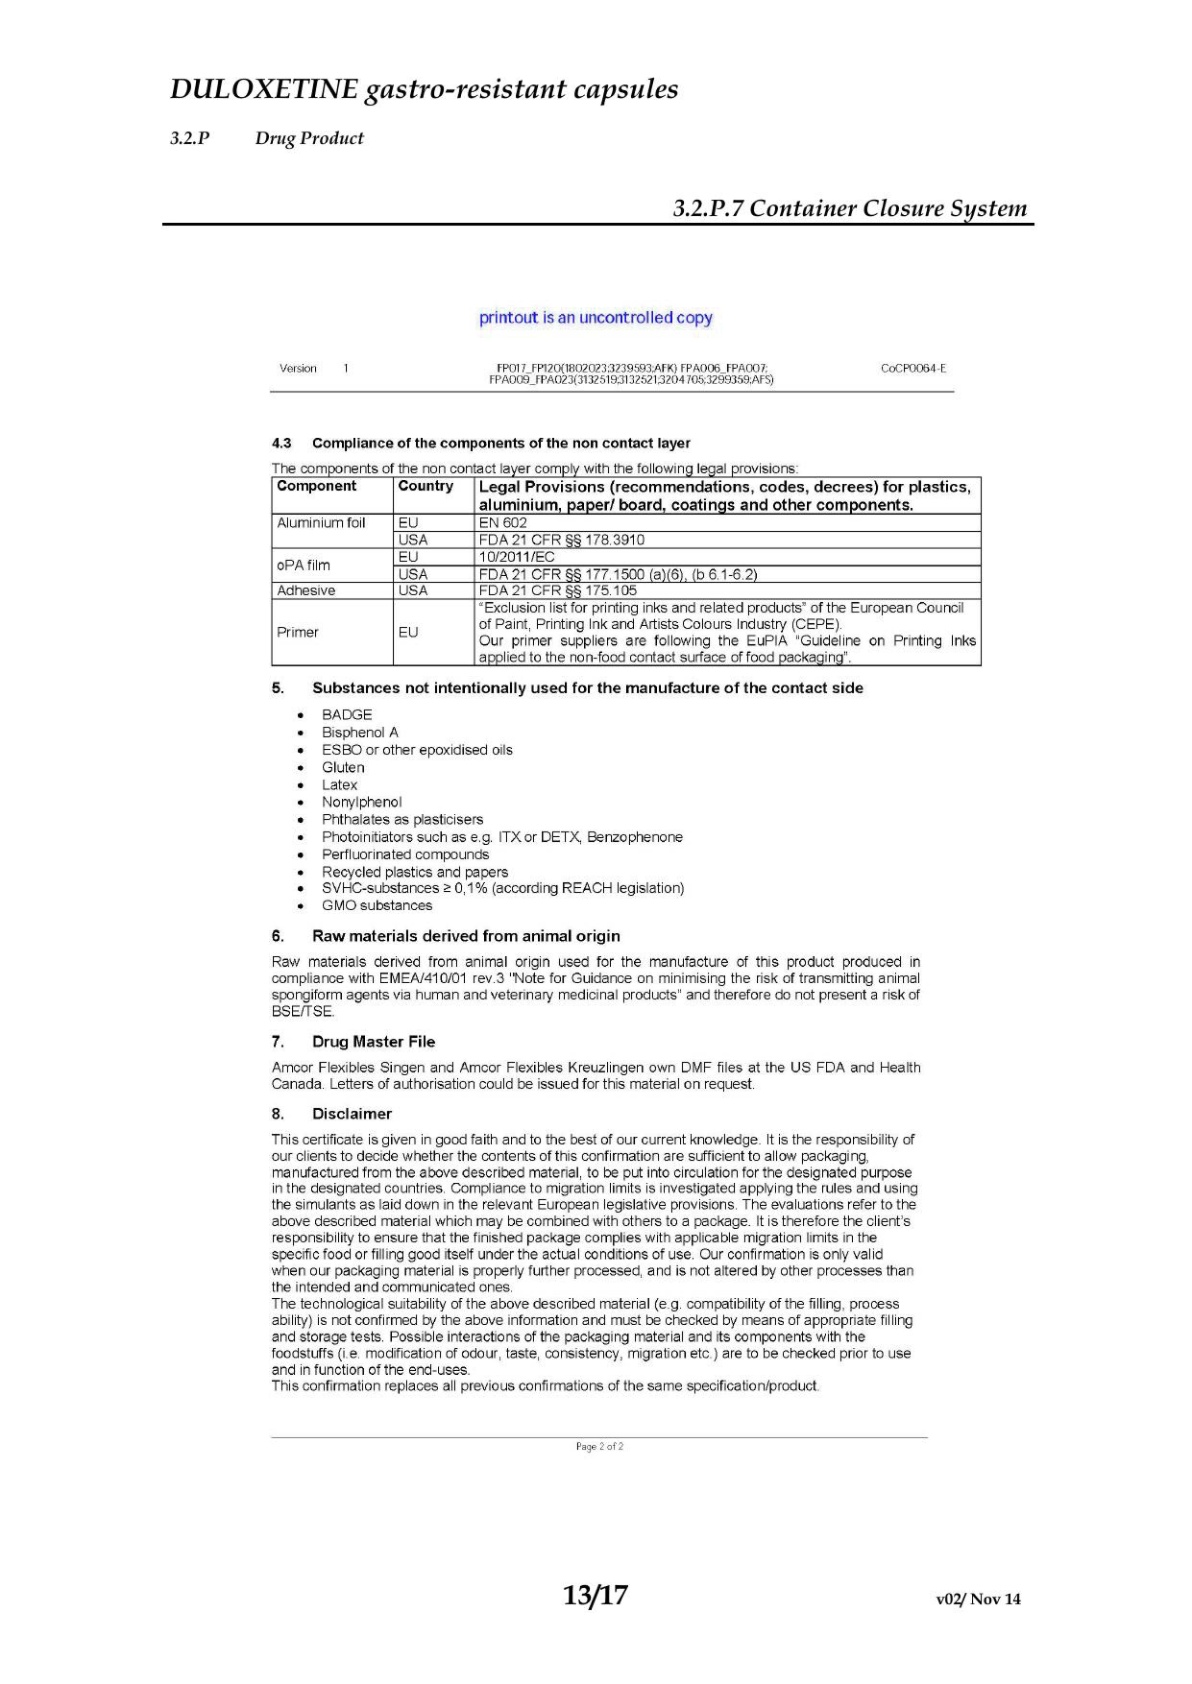merged_cells: (270, 476, 983, 667)
